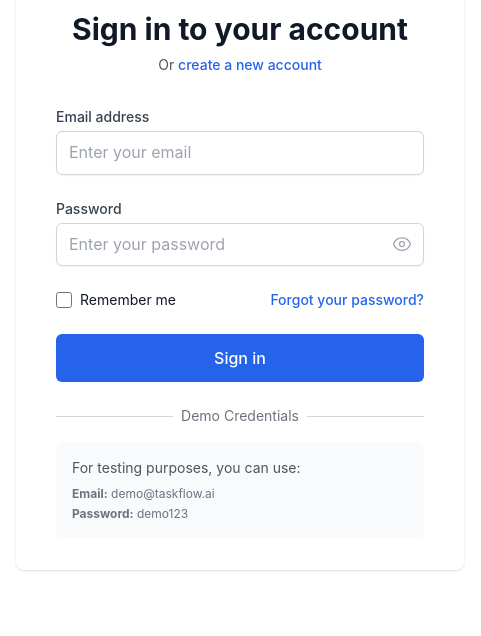
Scenario: LoginForm Component › validates password length
Type "short" into the password field labelled "Password" at (240, 244), box 56,223 -> 424,266
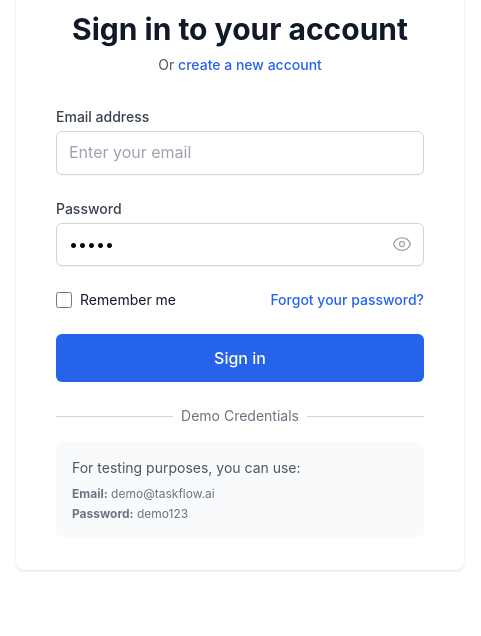
Click the button "Sign in" at (240, 358), box 56,334 -> 424,382
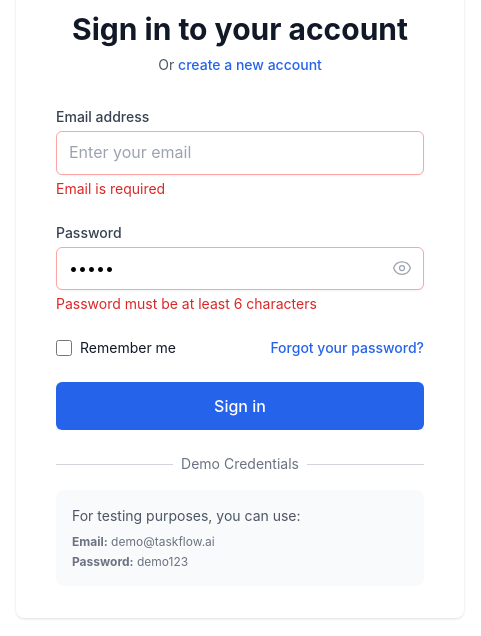
expect the text "Password must be at least 6 characters" is shown: met, box 56,295 -> 317,312
